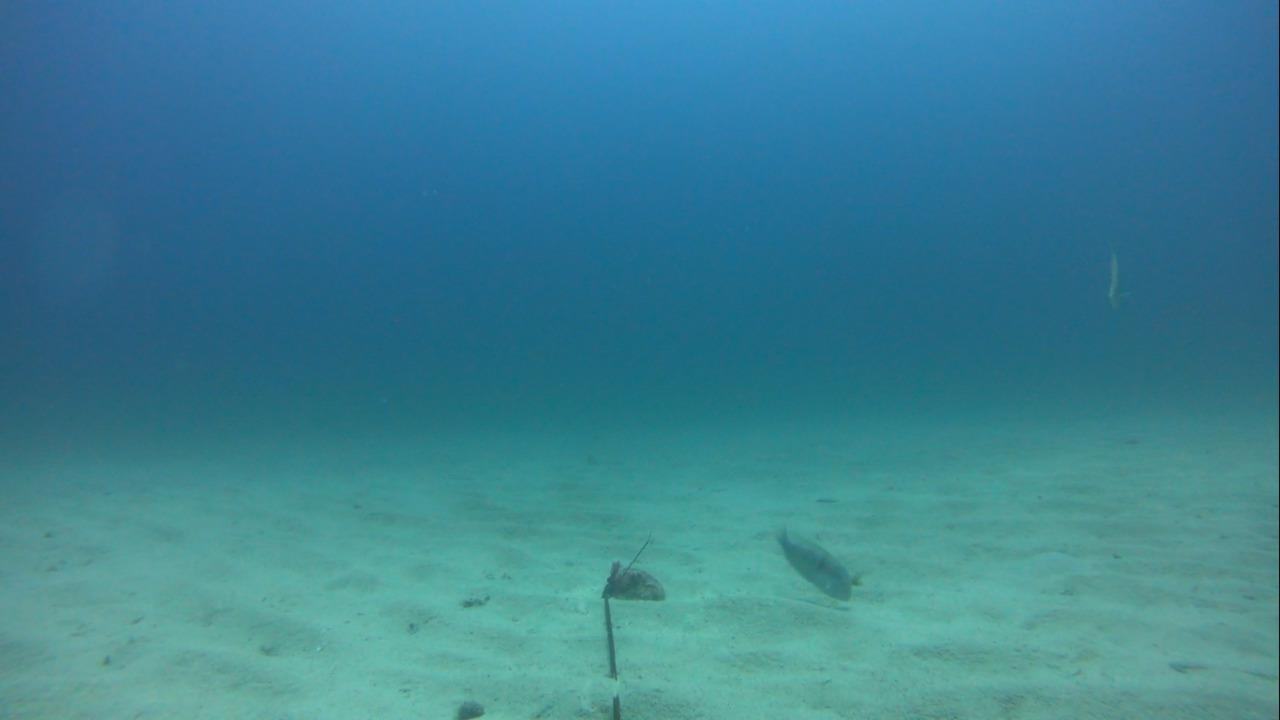raor: (760, 519, 855, 598), (1098, 236, 1132, 318)
